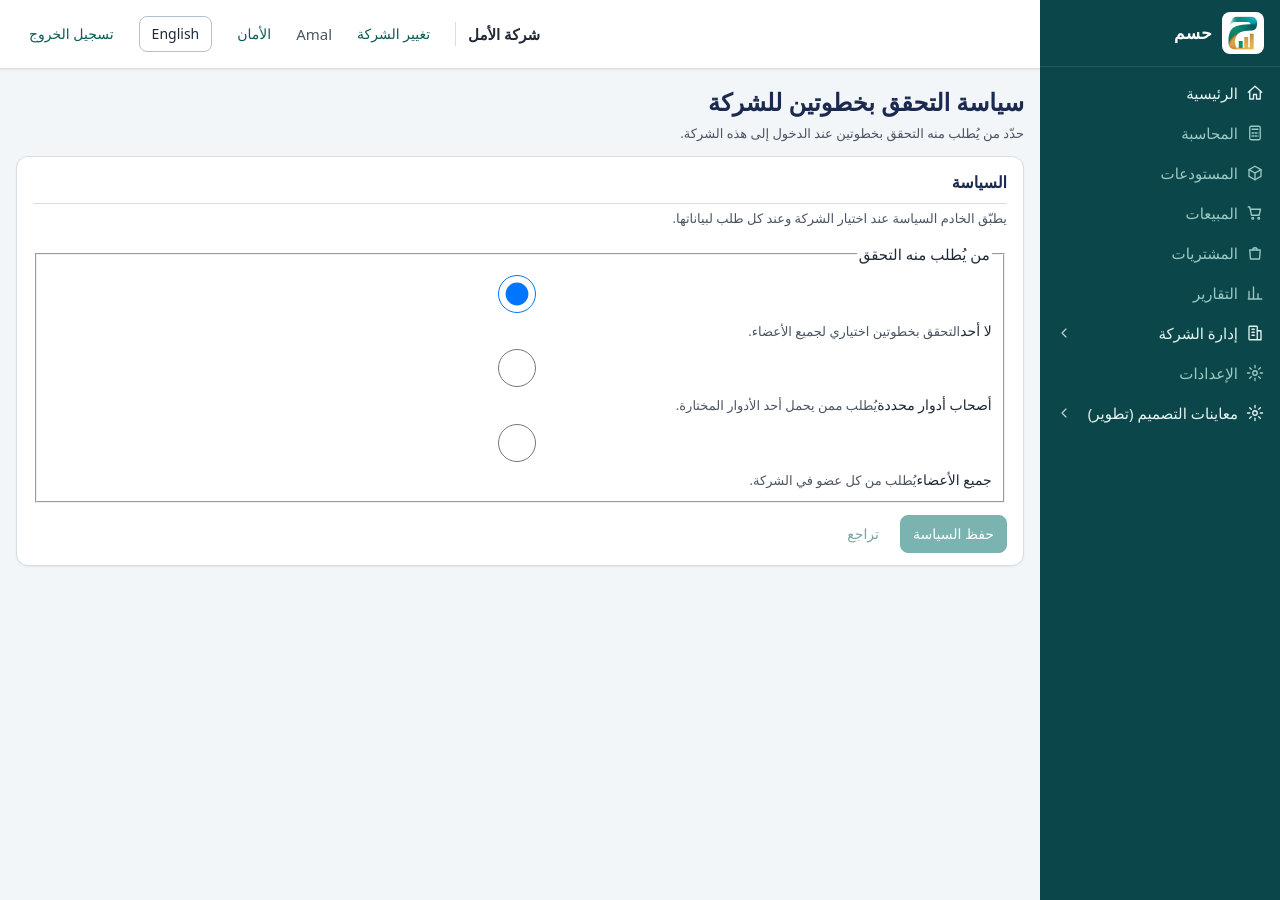
Test: company MFA policy screen › invalid_request is shown as its own message and the session stays
Expected: the element with test id "company-name" is shown, [455,22,540,46]
Expected: the heading "سياسة التحقق بخطوتين للشركة" is shown, [680,85,1024,119]
Click the 3rd radio button: (517,443) [45,424,989,462]
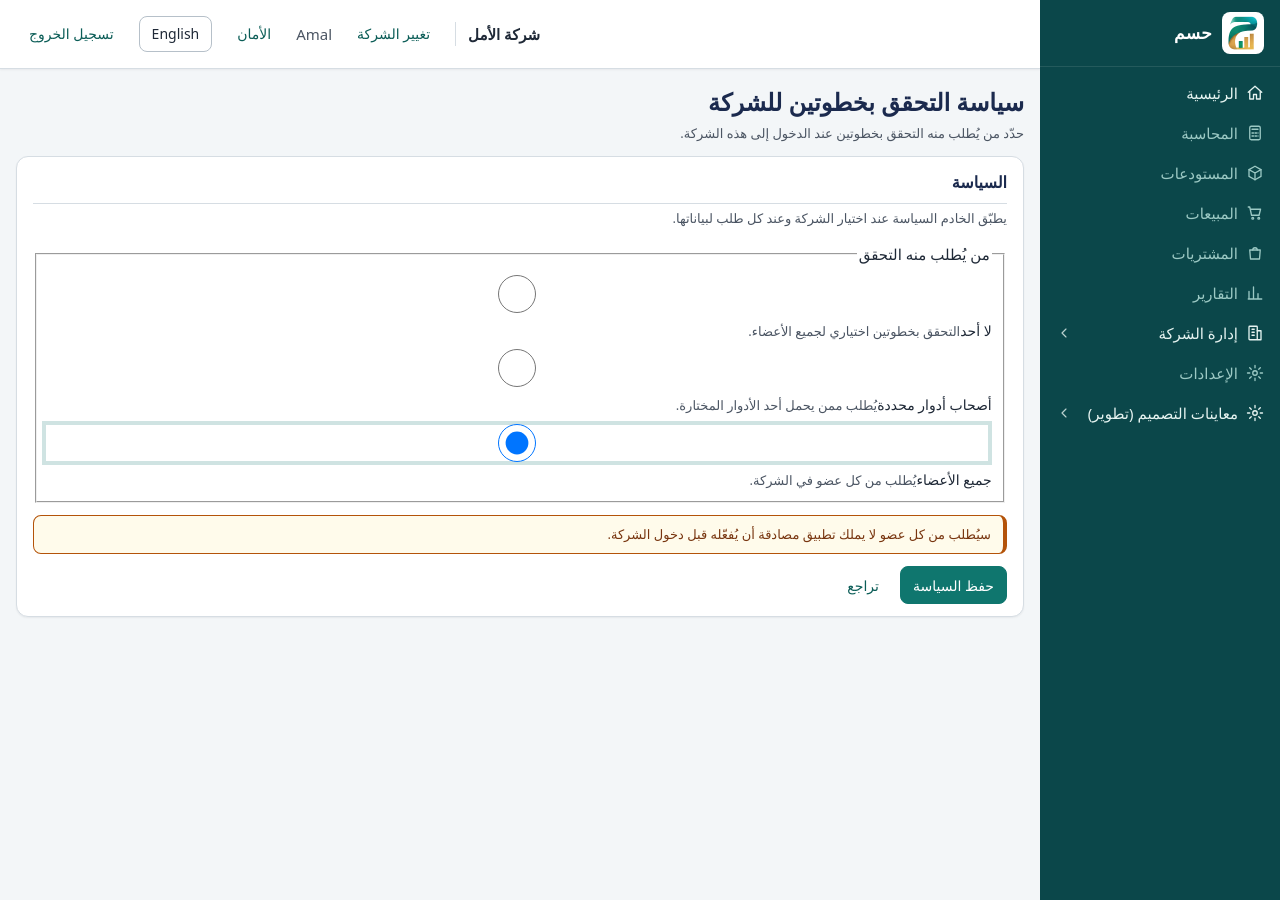
Click the button with test id "mfapolicy-save": (954,585) [900,566,1007,604]
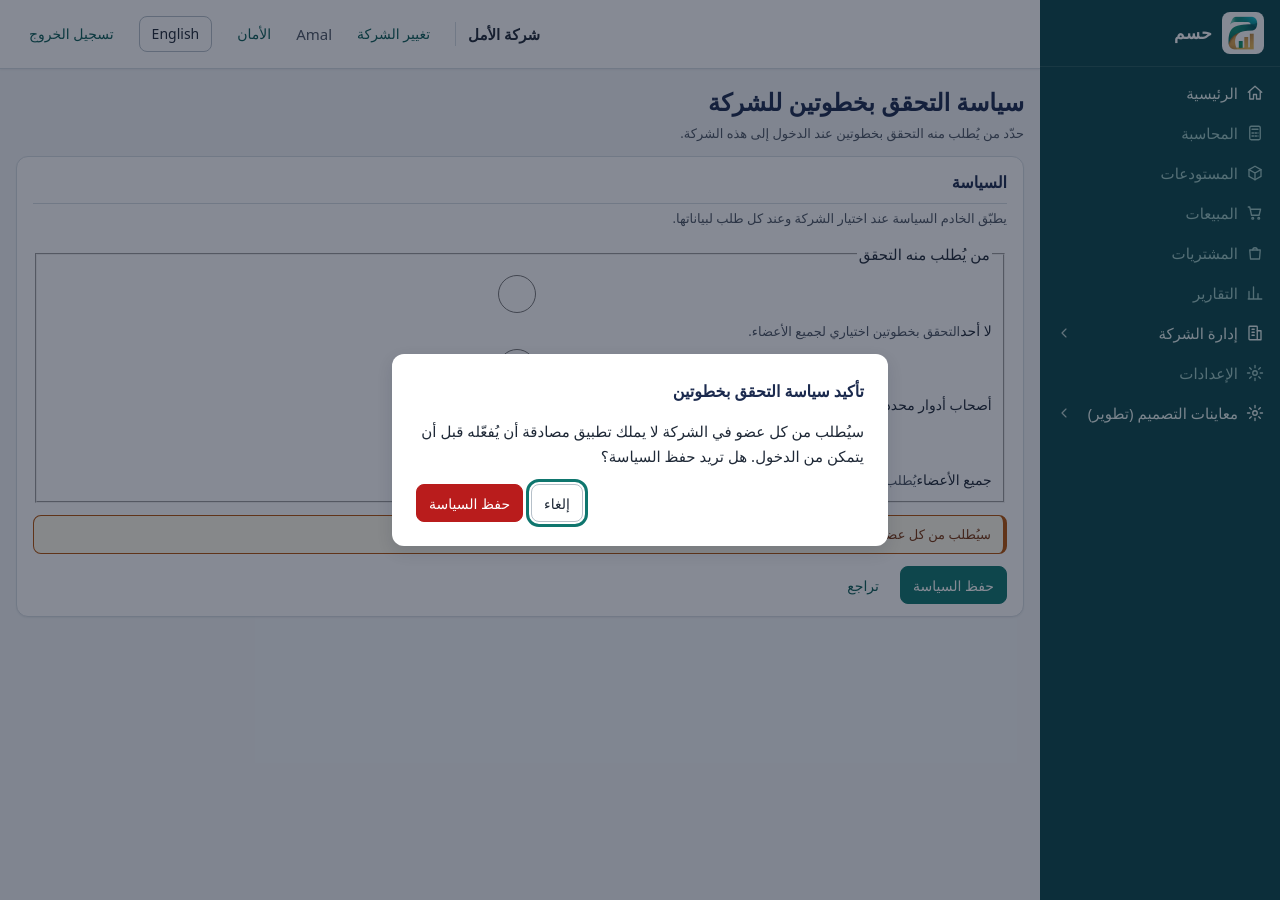
Click the button "حفظ السياسة": (470,503) [416,484,523,522]
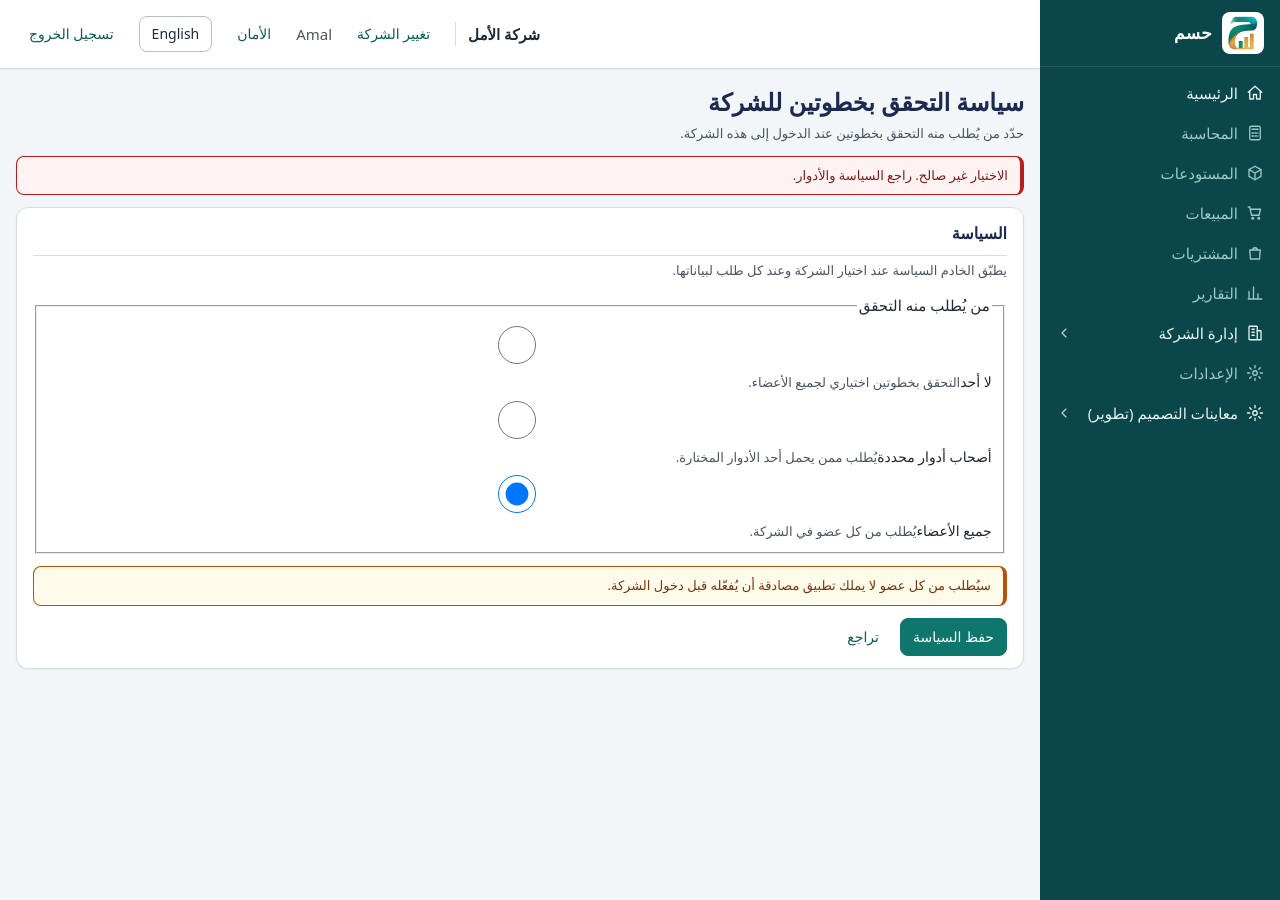
Now the message with test id "mfapolicy-error" reads "الاختيار غير صالح. راجع السياسة والأدوار.", box [793,166,1008,184]
